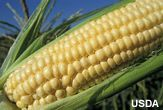corn: (3, 0, 162, 109)
